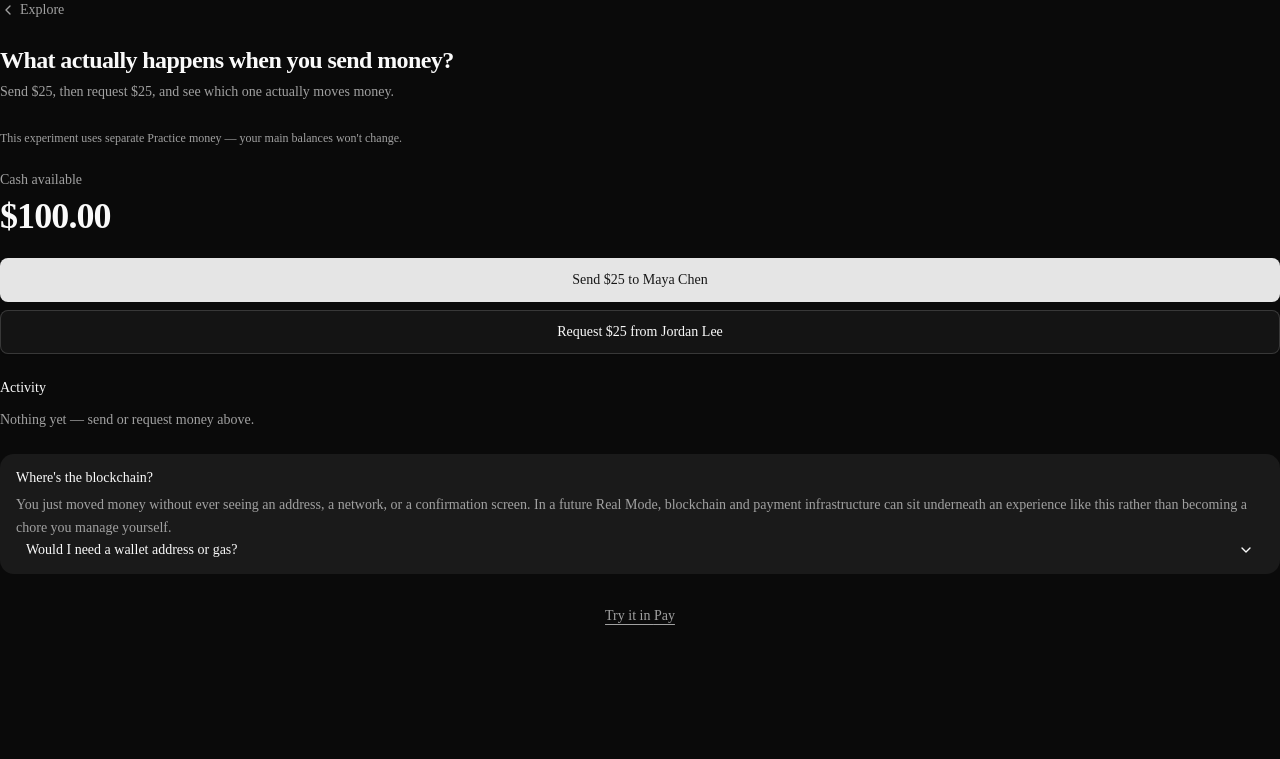
PaymentsExperiment › requesting money moves nothing
This screenshot has width=1280, height=759.
Click the button "Request $25 from Jordan Lee" at (640, 332), box [0, 310, 1279, 354]
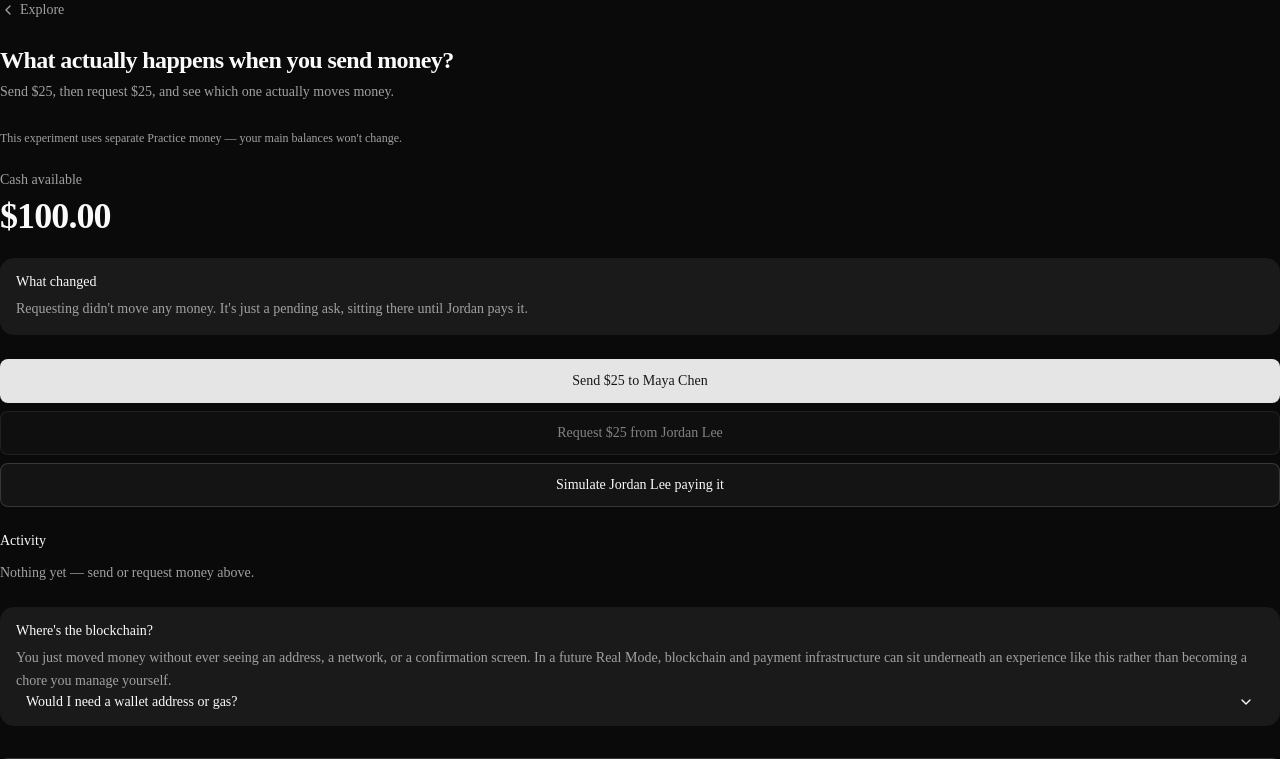
Expected: the text with test id "payments-experiment-cash" reads "$100.00", [0, 196, 111, 236]
Expected: the text "didn't move any money" is shown, [16, 301, 528, 316]
